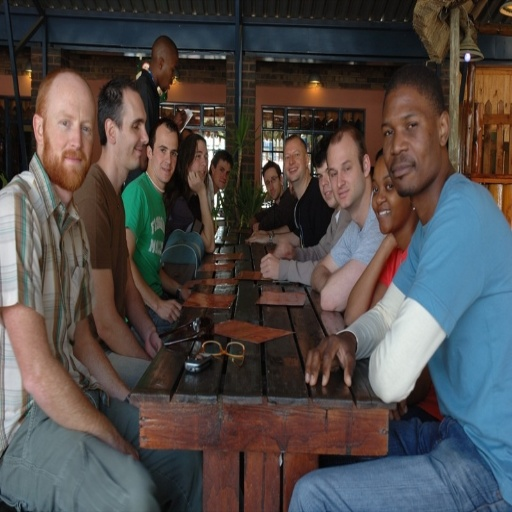hand: (302, 314, 364, 394), (115, 435, 140, 460), (161, 299, 181, 324), (184, 170, 204, 195), (144, 331, 162, 357), (387, 398, 408, 419), (273, 238, 293, 260), (259, 256, 276, 279), (244, 231, 268, 244), (172, 107, 186, 128), (179, 284, 193, 298)
